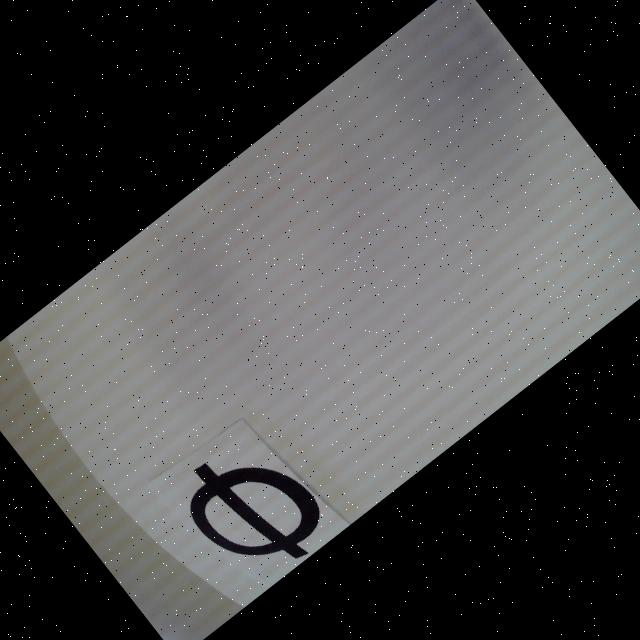PHI: (168, 420, 340, 596)
